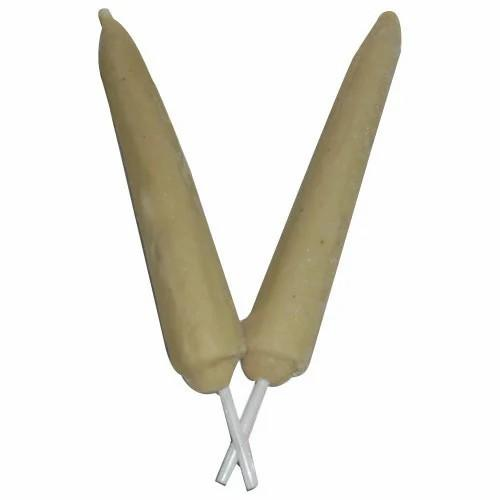Kulfi: (234, 9, 402, 388), (92, 5, 251, 395)
